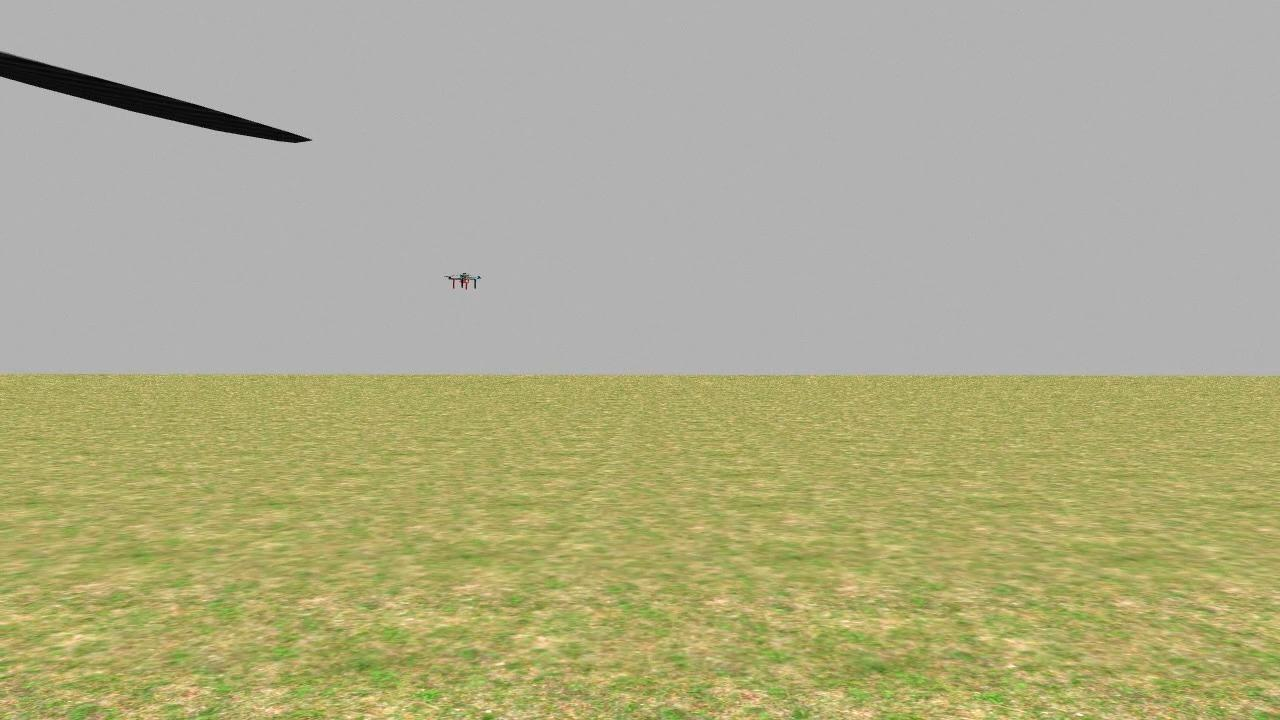UAV: (438, 264, 481, 302)
